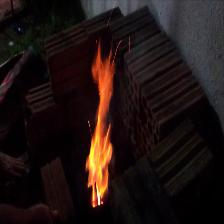fire: (78, 23, 136, 213)
